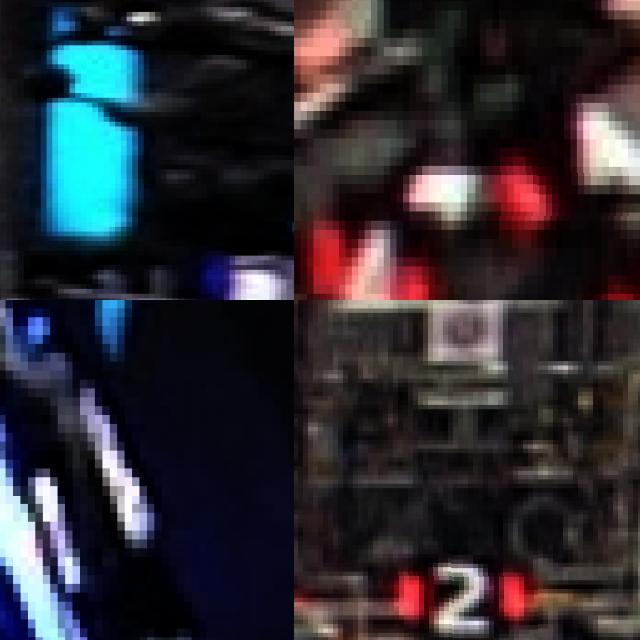R2: (383, 541, 538, 640)
R4: (467, 69, 640, 216), (294, 193, 428, 300)
